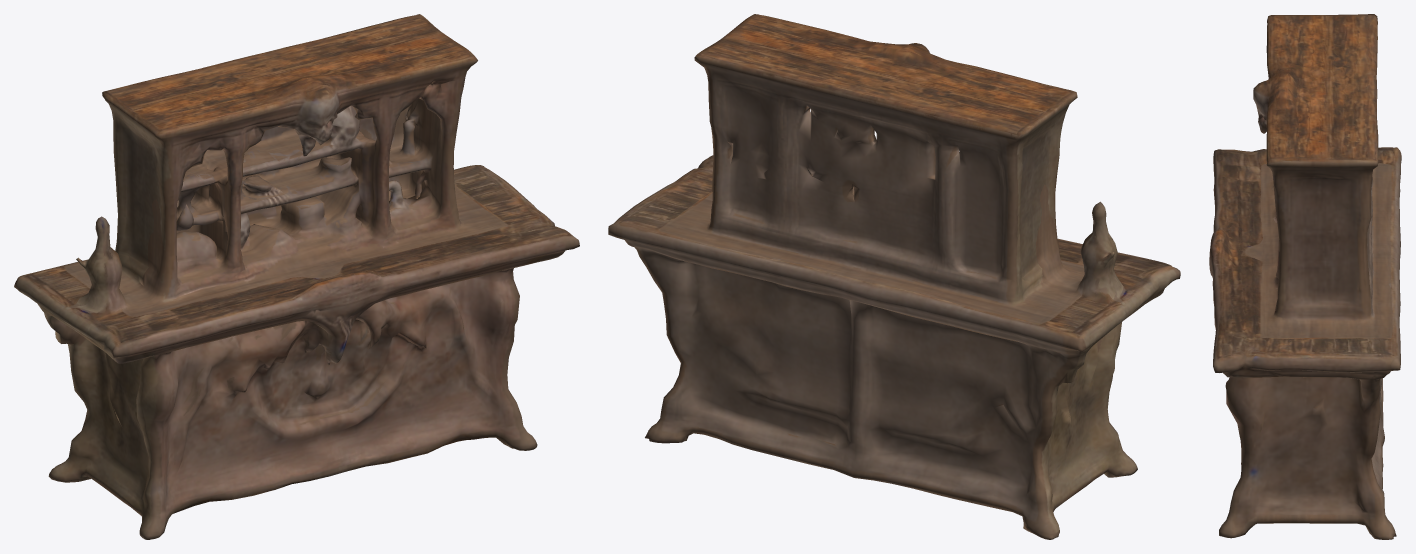
Rendered from Horror_and_creepy_ver_0124153029_stylize.fbx.
The picture shows the model from 3 angles, left to right: view 1: azimuth 30°, elevation 25°; view 2: azimuth 150°, elevation 25°; view 3: azimuth 270°, elevation 25°; orthographic projection. The views are drawn at different scales.
Visible parts, largest first — view 1: Mesh_0.003; view 2: Mesh_0.003; view 3: Mesh_0.003.
Part boxes in pixels (left/top/right/bottom): Mesh_0.003: left=14, top=14, right=579, bottom=539; Mesh_0.003: left=608, top=14, right=1180, bottom=539; Mesh_0.003: left=1209, top=14, right=1401, bottom=539.
Size of the model in its own units: 199 by 159 by 74.72.
1 material, 1 textured.
